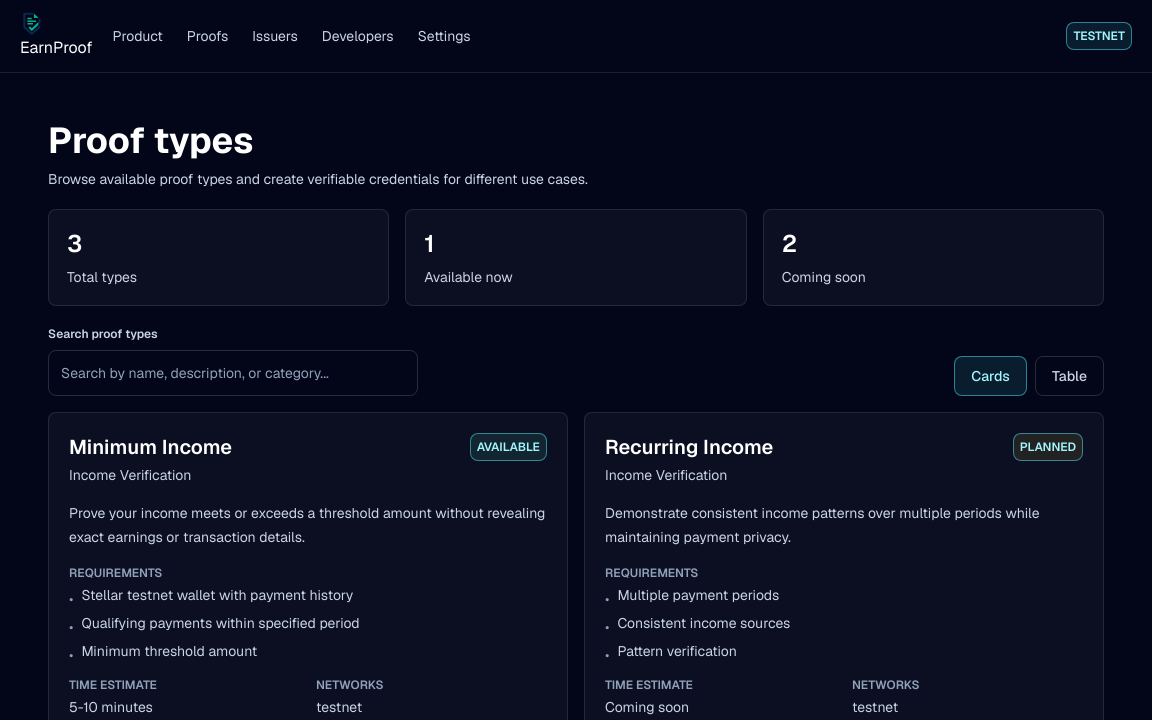
Test: ProofTypesPage › filters proof types based on search input
Note: Search for "minimum"
Type "minimum" into the search field with placeholder "Search by name, description, or category...". click: (233, 373)
box: x1=48 y1=350 x2=418 y2=396
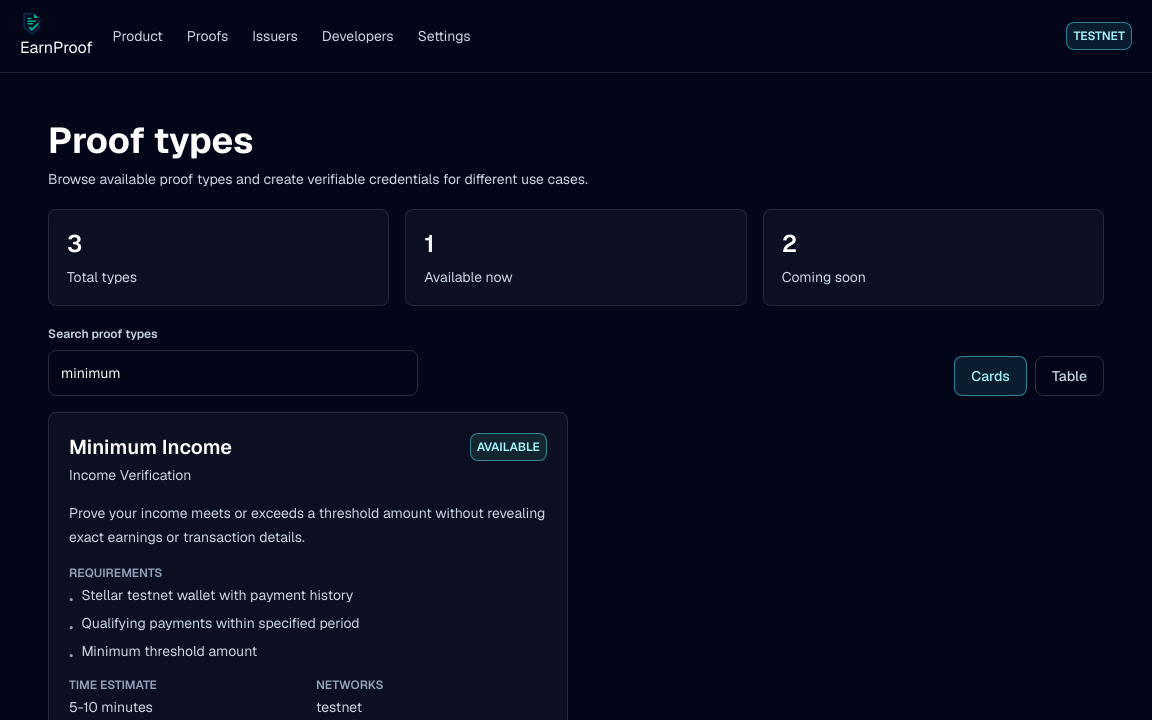
Expected: the heading "Minimum Income" is shown, x1=69 y1=434 x2=232 y2=460
Expected: the heading "Recurring Income" is gone
